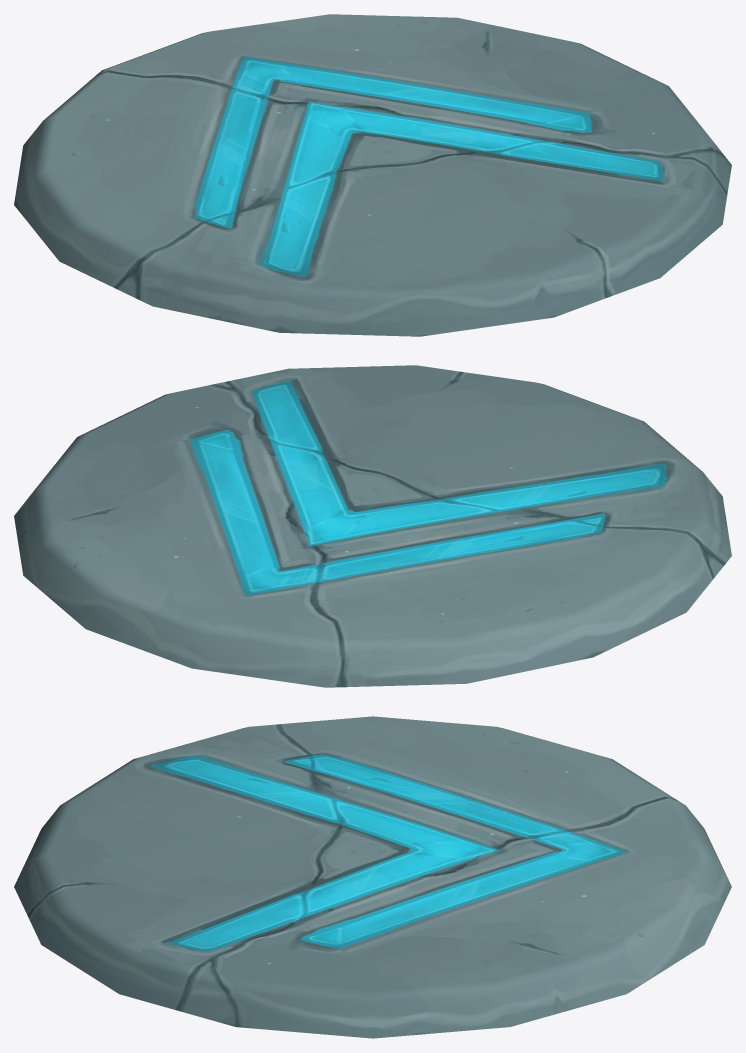
Rendered from SM_PuzzleArrow_01.fbx.
The picture shows the model from 3 angles, top to bottom: view 1: azimuth 30°, elevation 25°; view 2: azimuth 150°, elevation 25°; view 3: azimuth 270°, elevation 25°; orthographic projection.
Visible parts, largest first — view 1: SM_PuzzleArrow_Bottom_01; view 2: SM_PuzzleArrow_Bottom_01; view 3: SM_PuzzleArrow_Bottom_01.
Boxes of the visible parts, <box> form: SM_PuzzleArrow_Bottom_01: <box>14,14,731,336</box>; SM_PuzzleArrow_Bottom_01: <box>14,365,731,687</box>; SM_PuzzleArrow_Bottom_01: <box>14,716,731,1038</box>.
Size of the model in its own units: 40.61 by 2.39 by 40.61.
Materials: 1 (1 with a texture image).
